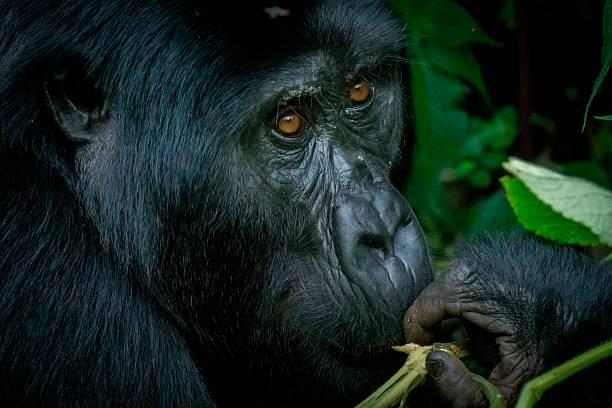goriile_montagne: (3, 5, 439, 406)
